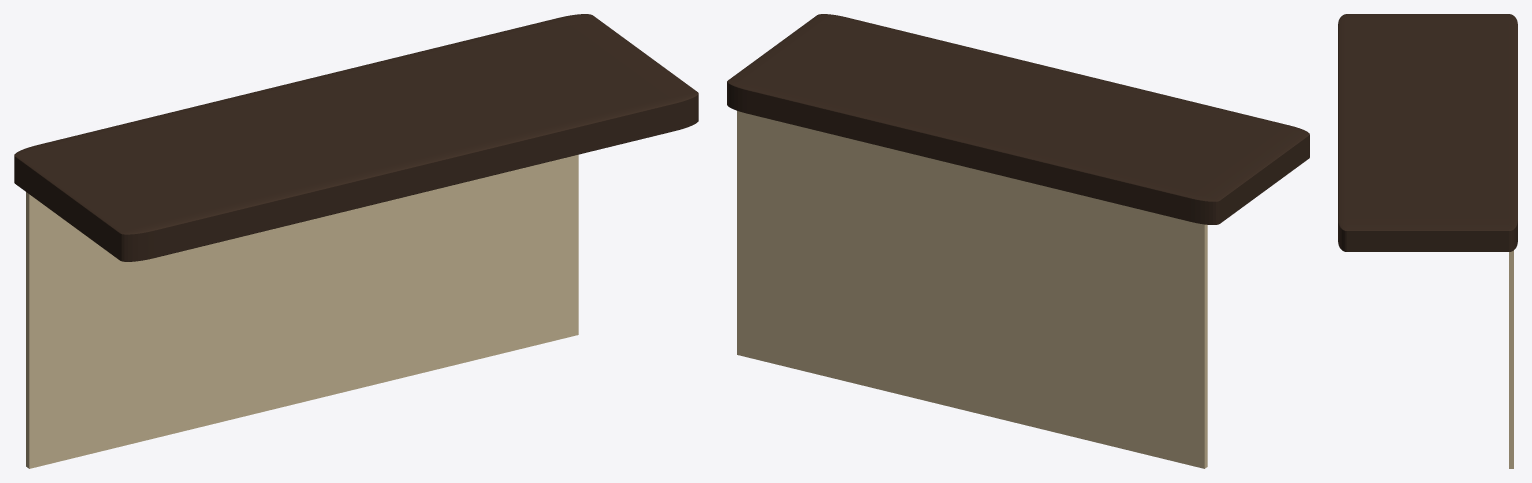
File: Checkout_Counter.fbx
3 views of the same model, side by side, from view 1: azimuth 30°, elevation 25°; view 2: azimuth 150°, elevation 25°; view 3: azimuth 270°, elevation 25° (orthographic). The views are drawn at different scales.
Visible parts, largest first — view 1: Checkout_Counter; view 2: Checkout_Counter; view 3: Checkout_Counter.
Boxes of the visible parts, <box> form: Checkout_Counter: <box>14,14,698,468</box>; Checkout_Counter: <box>727,14,1309,468</box>; Checkout_Counter: <box>1338,14,1517,468</box>.
Bounding box in the file's own units: 400 × 210 × 140.
